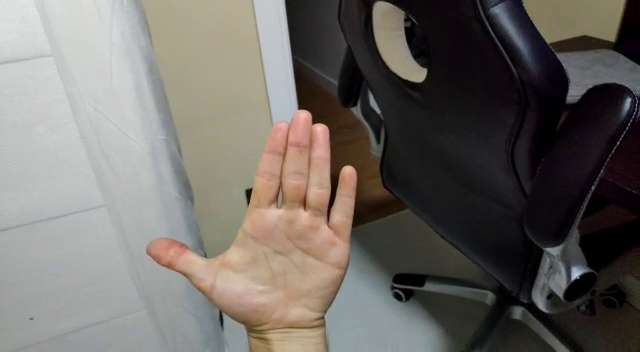Palm: (145, 106, 359, 336)
